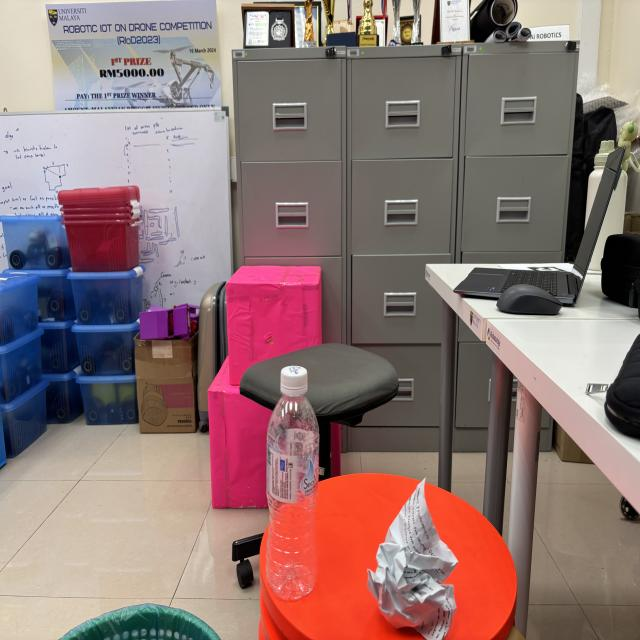crumpled_paper: (354, 466, 467, 640)
plastic_bottle: (256, 348, 328, 615)
